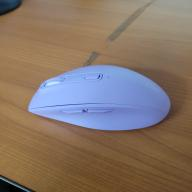mouse: (24, 59, 176, 130)
